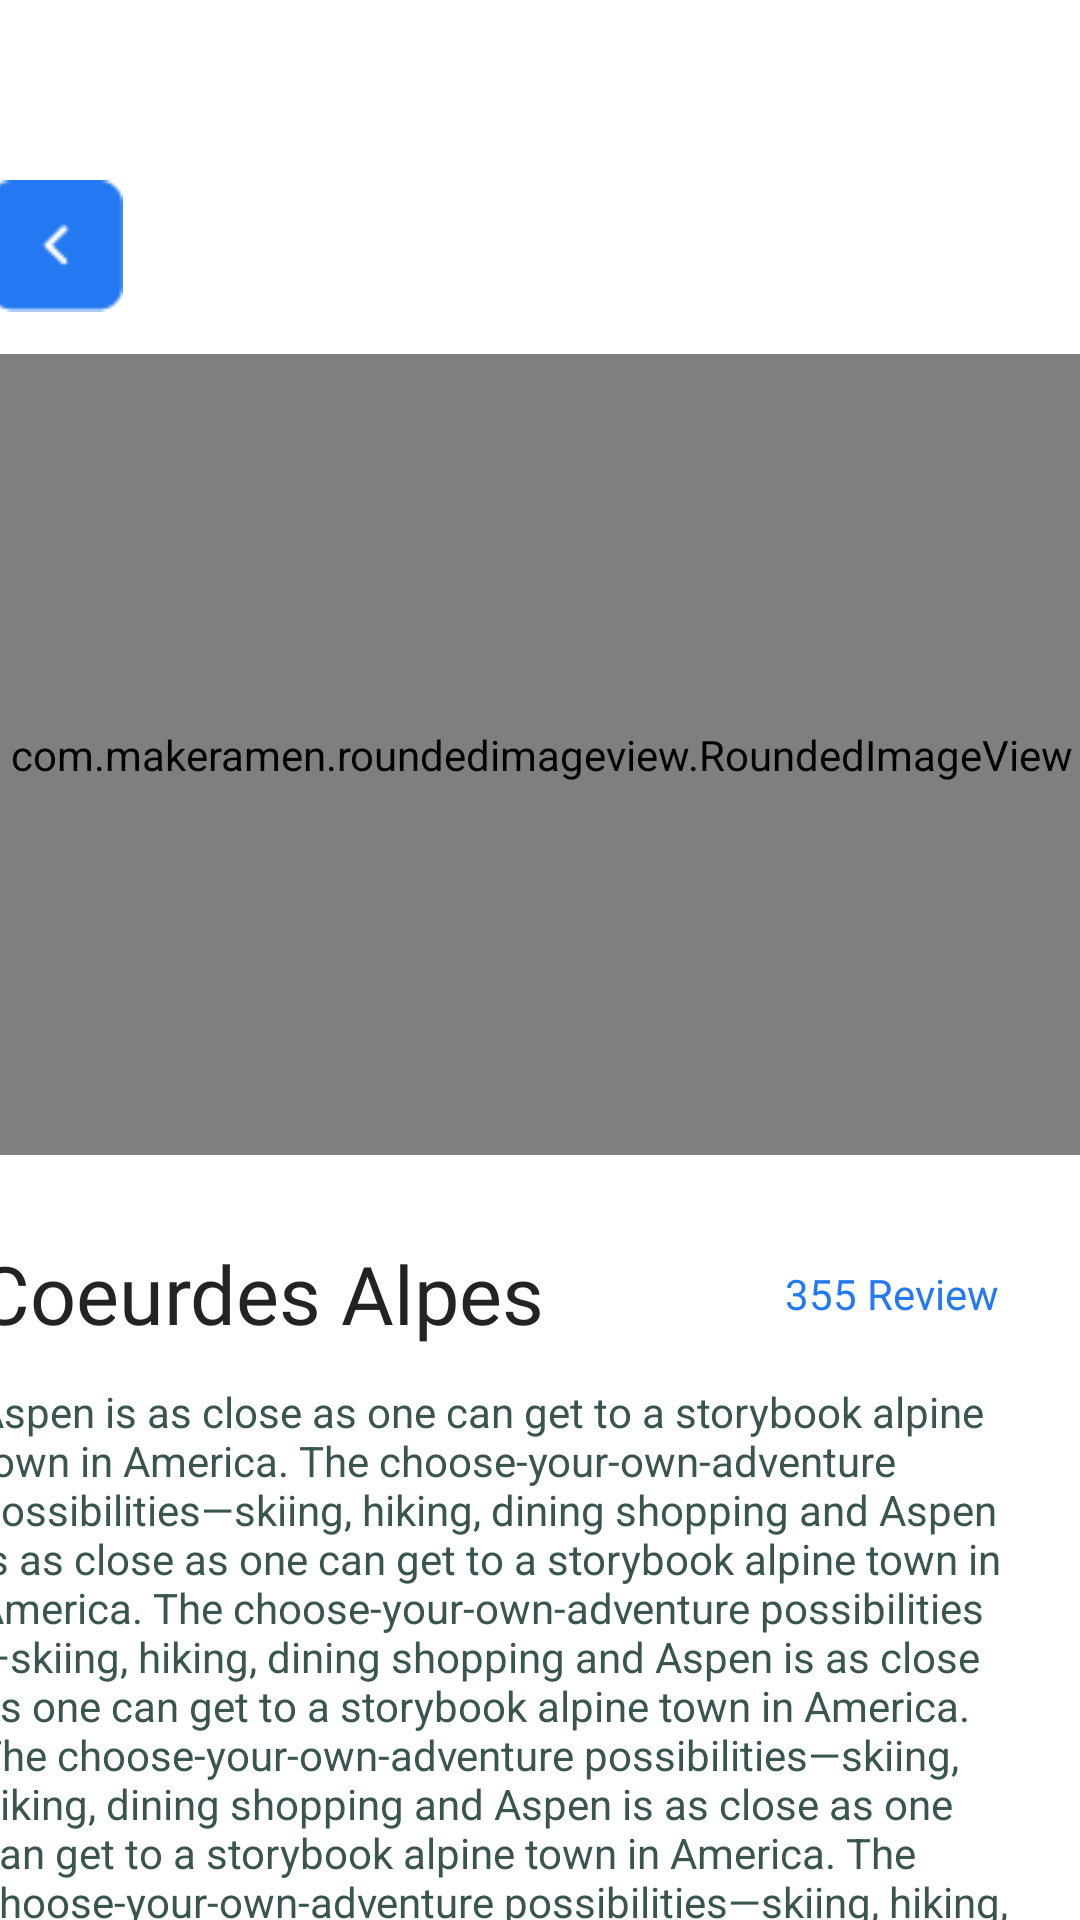

Screen size 1080×1920. Icon name, then its box in pixels as BBox(x1, y1, x2, y2):
back: BBox(0, 180, 123, 312)
